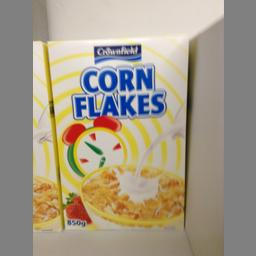cereal: (47, 36, 186, 228)
